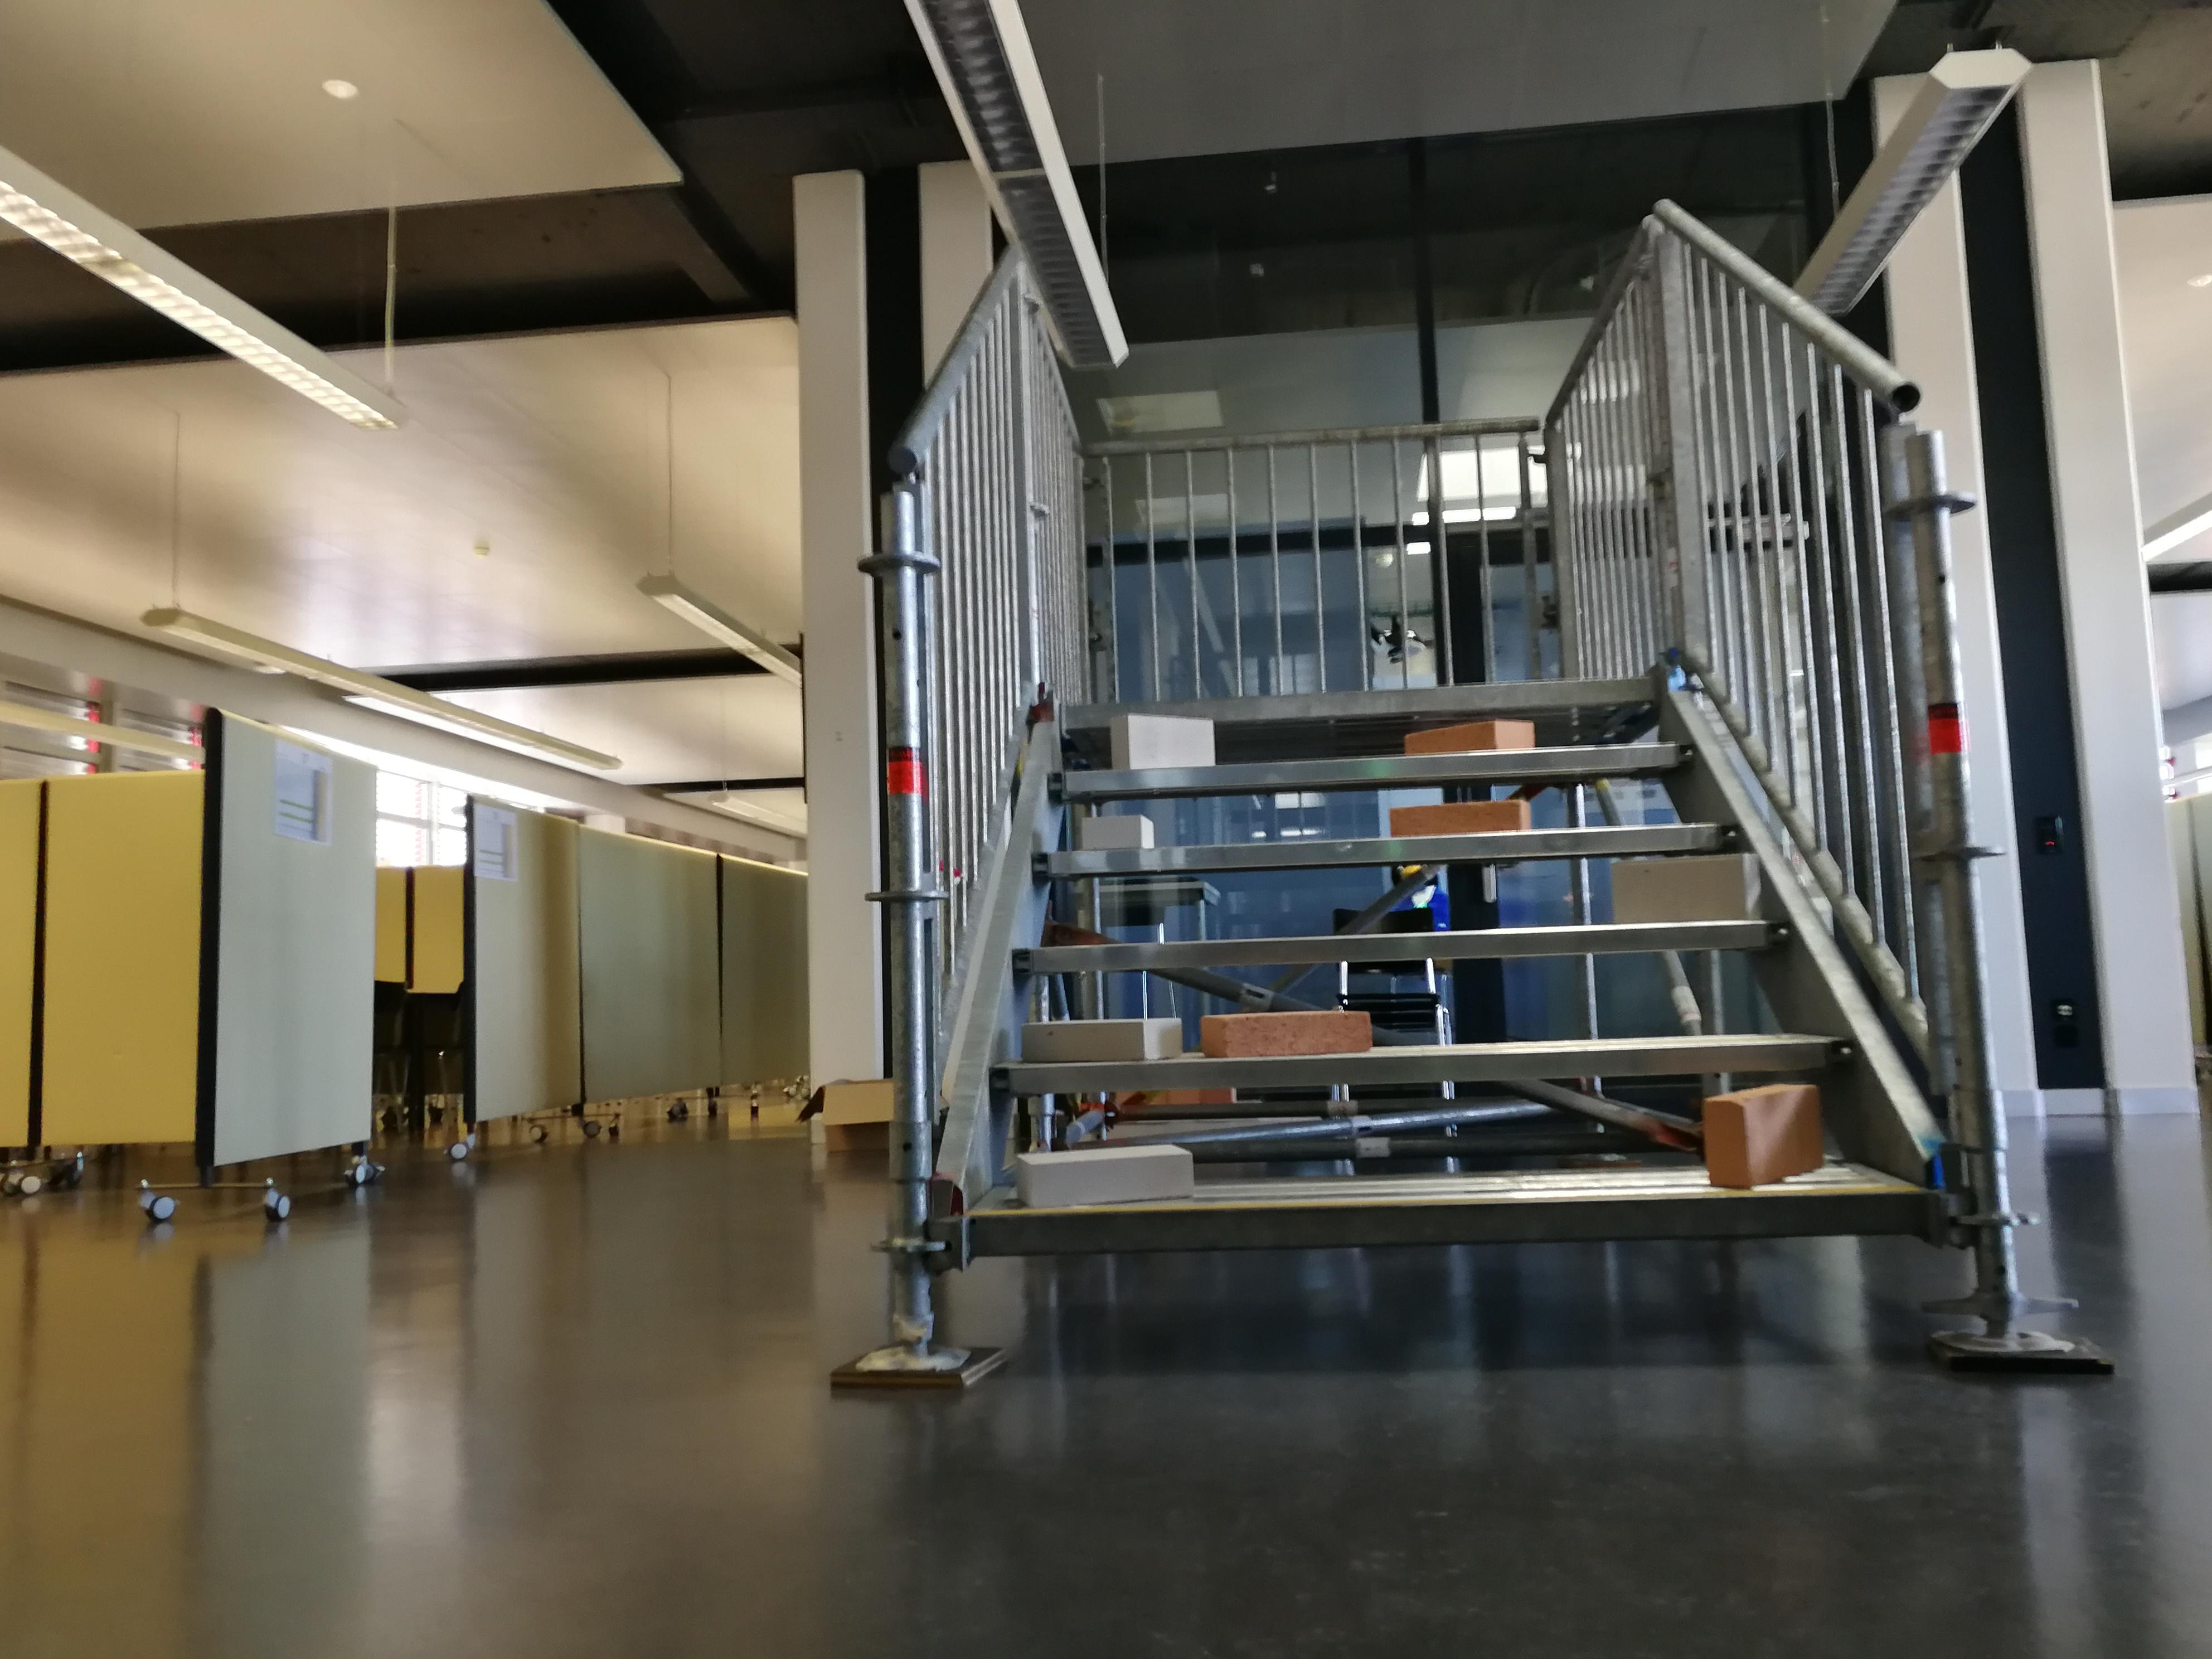brick: (1707, 1084, 1817, 1190), (1017, 1148, 1188, 1209), (1613, 850, 1757, 918), (1204, 1009, 1369, 1056), (1026, 1016, 1181, 1056), (1388, 802, 1527, 840), (1111, 716, 1211, 767), (1406, 720, 1534, 749), (1083, 817, 1153, 850)
edge: (963, 1195, 1932, 1251), (988, 1040, 1848, 1093), (1015, 920, 1794, 974), (1029, 823, 1743, 875), (1047, 741, 1698, 793), (1068, 676, 1660, 730)
stairs: (827, 206, 2116, 1387)
steps: (953, 669, 1954, 1260)
